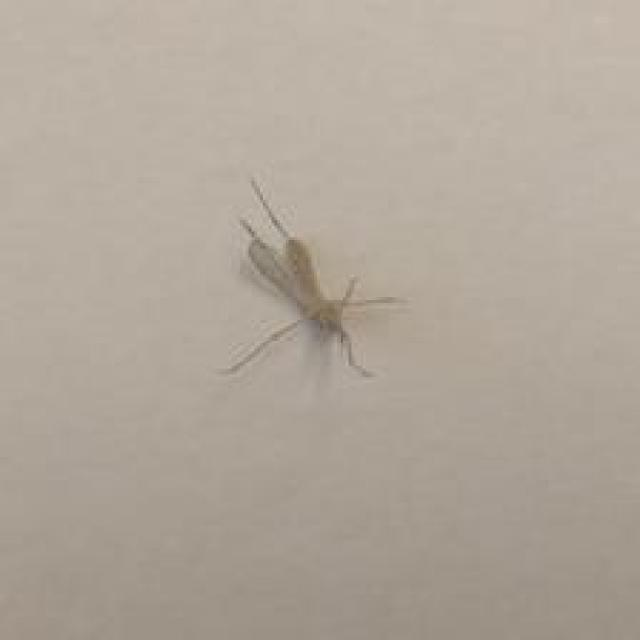Culex: (219, 176, 407, 381)
